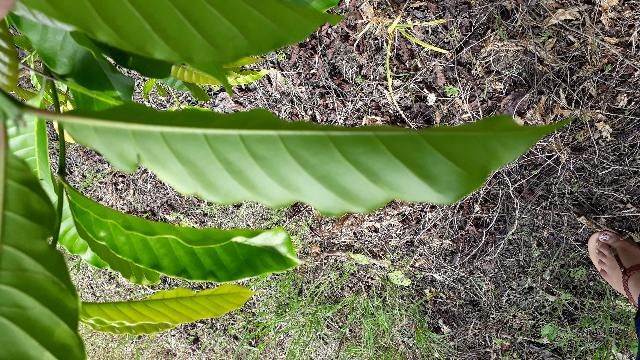healthy: (59, 102, 574, 216)
